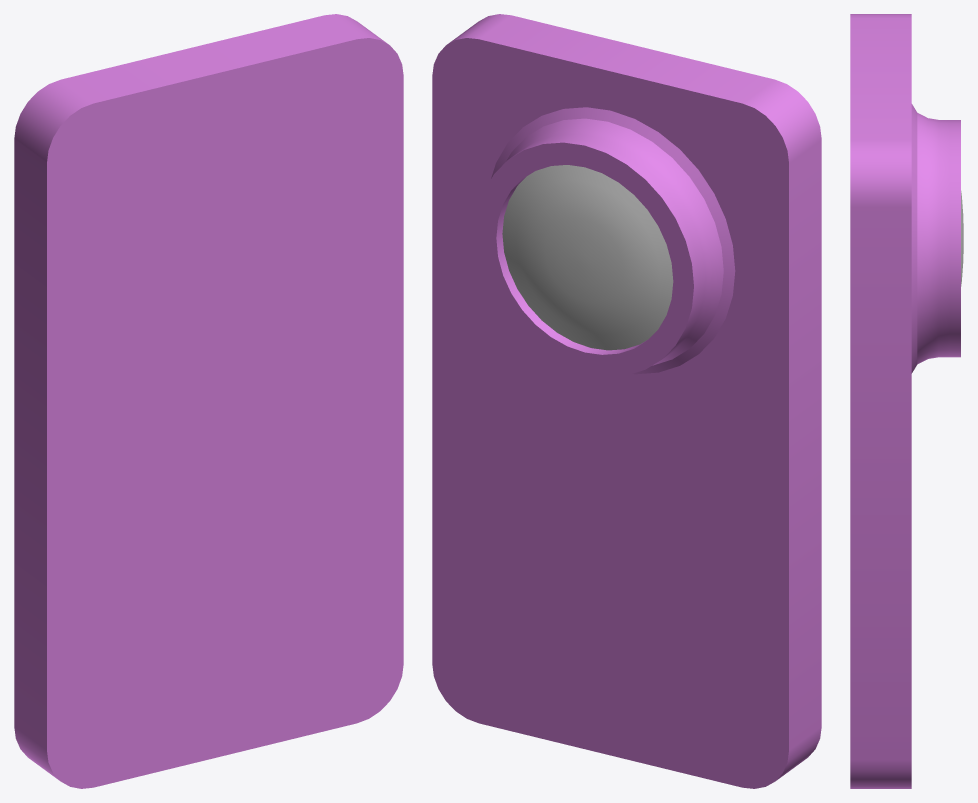
File: iPhone18_2.fbx
3 views of the same model, side by side, from view 1: azimuth 30°, elevation 25°; view 2: azimuth 150°, elevation 25°; view 3: azimuth 270°, elevation 25° (orthographic). The views are drawn at different scales.
Visible parts, largest first — view 1: PhoneBody; view 2: PhoneBody, PhoneCamera; view 3: PhoneBody, PhoneCamera.
Boxes of the visible parts, x1=… form: PhoneBody: x1=14, y1=14, x2=403, y2=788; PhoneBody: x1=432, y1=14, x2=821, y2=788; PhoneCamera: x1=475, y1=107, x2=735, y2=376; PhoneBody: x1=850, y1=14, x2=911, y2=788; PhoneCamera: x1=911, y1=104, x2=963, y2=373.
Size of the model in its own units: 114 by 391 by 716.
